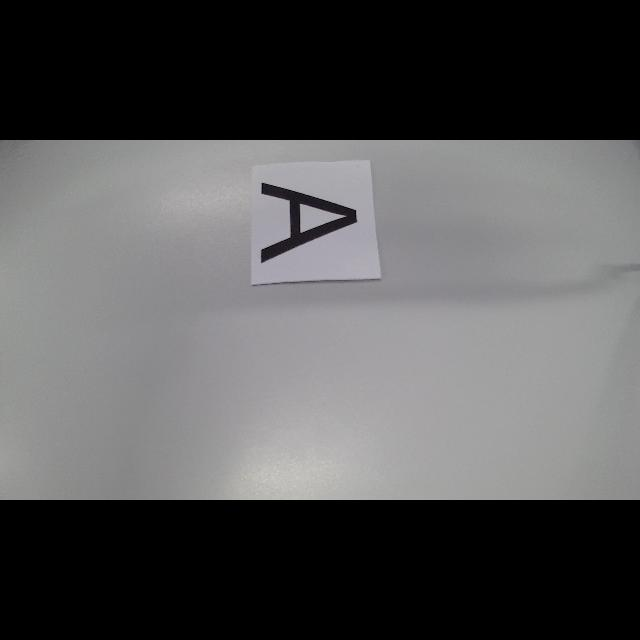FAKE: (260, 182, 358, 264)
